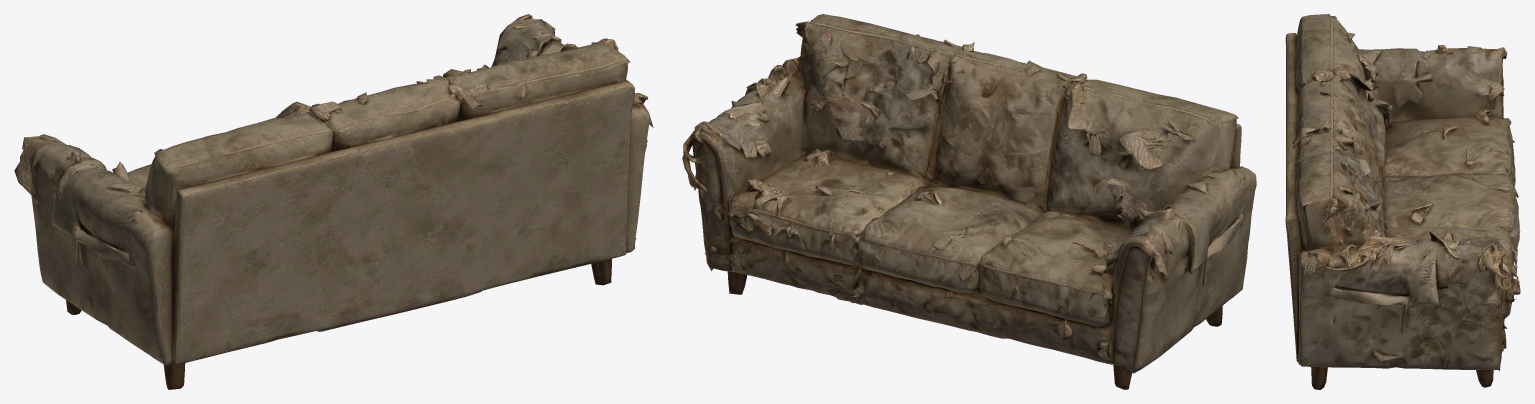
File: sofa.glb
3 renders of one model, left to right at view 1: azimuth 30°, elevation 25°; view 2: azimuth 150°, elevation 25°; view 3: azimuth 270°, elevation 25°, orthographic. The views are drawn at different scales.
Parts seen in each view (by area): view 1: tripo_node_9817ee6e-db42-4b5b-b3a1-cf9d79a5f7ae; view 2: tripo_node_9817ee6e-db42-4b5b-b3a1-cf9d79a5f7ae; view 3: tripo_node_9817ee6e-db42-4b5b-b3a1-cf9d79a5f7ae.
Boxes of the visible parts, left/top/right/bottom form: tripo_node_9817ee6e-db42-4b5b-b3a1-cf9d79a5f7ae: left=14, top=14, right=653, bottom=389; tripo_node_9817ee6e-db42-4b5b-b3a1-cf9d79a5f7ae: left=682, top=14, right=1256, bottom=389; tripo_node_9817ee6e-db42-4b5b-b3a1-cf9d79a5f7ae: left=1285, top=14, right=1520, bottom=389.
Bounding box in the file's own units: 1.96 × 0.85 × 0.8957.
1 material, 1 textured.
